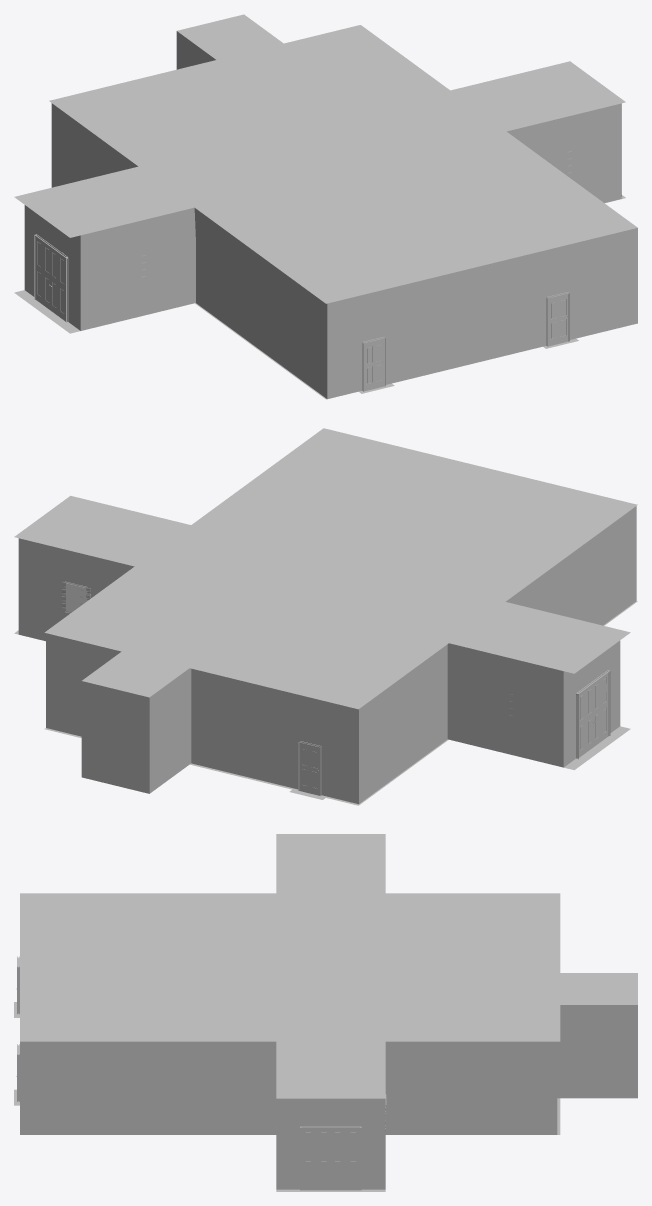
The model's file is room.fbx.
3 views of the same model, one above another, from view 1: azimuth 30°, elevation 25°; view 2: azimuth 150°, elevation 25°; view 3: azimuth 270°, elevation 25° (orthographic). The views are drawn at different scales.
Visible parts, largest first — view 1: pPlane85; view 2: pPlane85; view 3: pPlane85.
Part boxes in pixels (x1,y1,x2,y2): pPlane85: [14, 14, 637, 399]; pPlane85: [14, 428, 637, 805]; pPlane85: [14, 834, 637, 1191].
Size of the model in its own units: 175 by 28.83 by 175.
